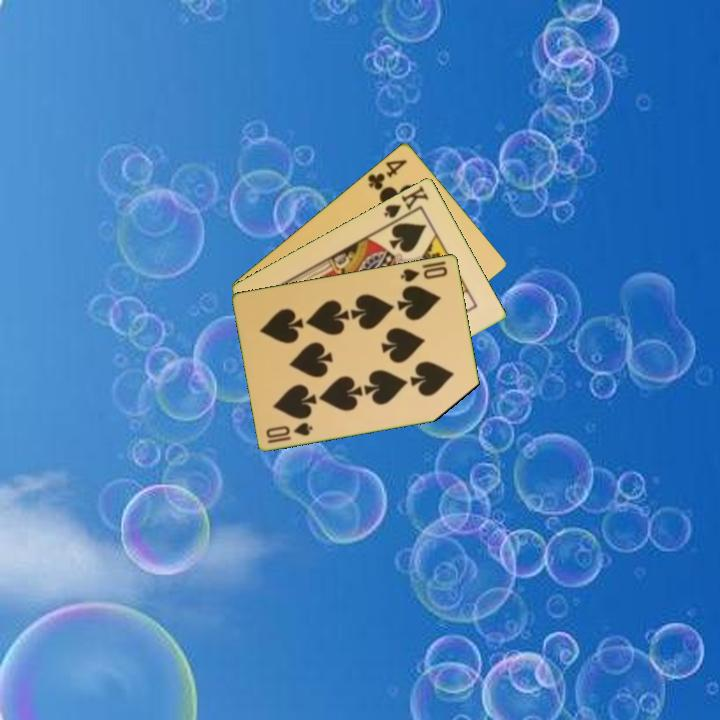10s: (263, 418, 316, 446), (397, 262, 451, 285)
4c: (364, 155, 410, 193)
Ks: (380, 182, 432, 221)
